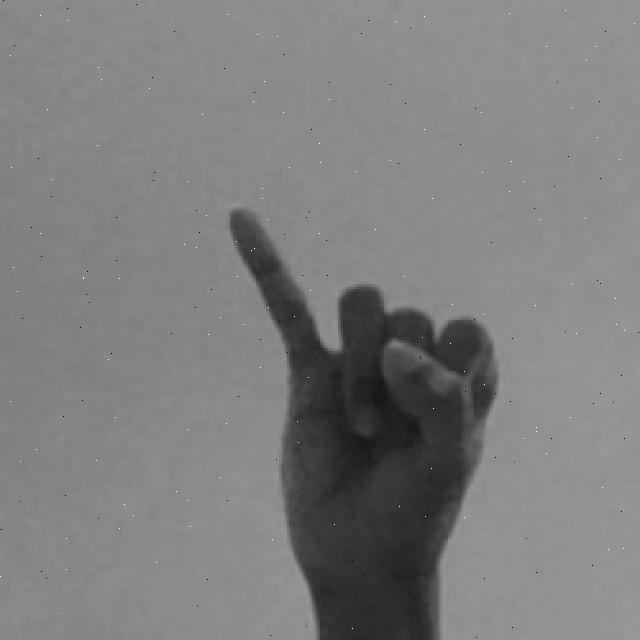I: (226, 202, 504, 640)
